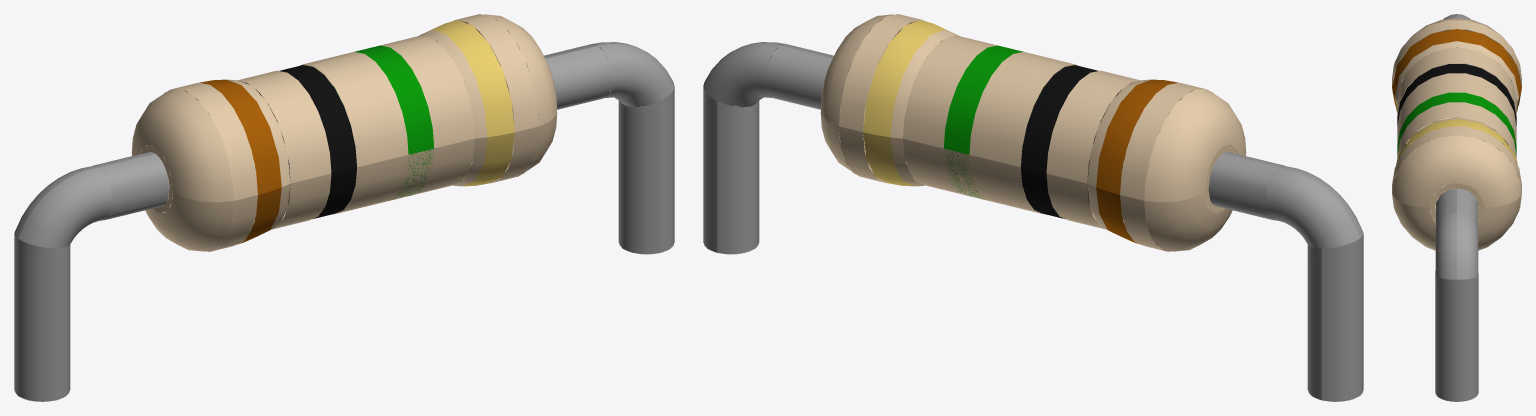
The model's file is 棕黑綠R1.fbx.
The picture shows the model from 3 angles, left to right: view 1: azimuth 30°, elevation 25°; view 2: azimuth 150°, elevation 25°; view 3: azimuth 270°, elevation 25°; orthographic projection. The views are drawn at different scales.
Visible parts, largest first — view 1: nurbsToPoly261; view 2: nurbsToPoly261; view 3: nurbsToPoly261.
Part boxes in pixels (<box>): nurbsToPoly261: <box>14,14,674,401</box>; nurbsToPoly261: <box>703,14,1363,401</box>; nurbsToPoly261: <box>1392,14,1521,401</box>.
Bounding box in the file's own units: 3.19 × 1.21 × 0.7087.
